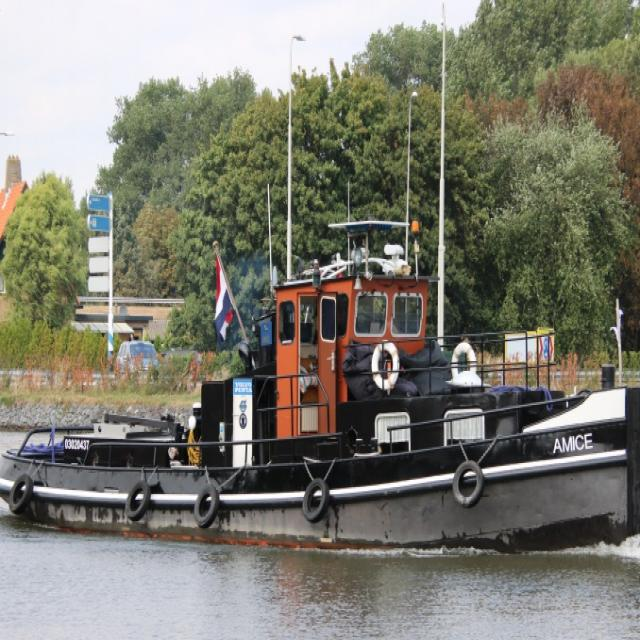tugboat: (1, 216, 640, 566)
